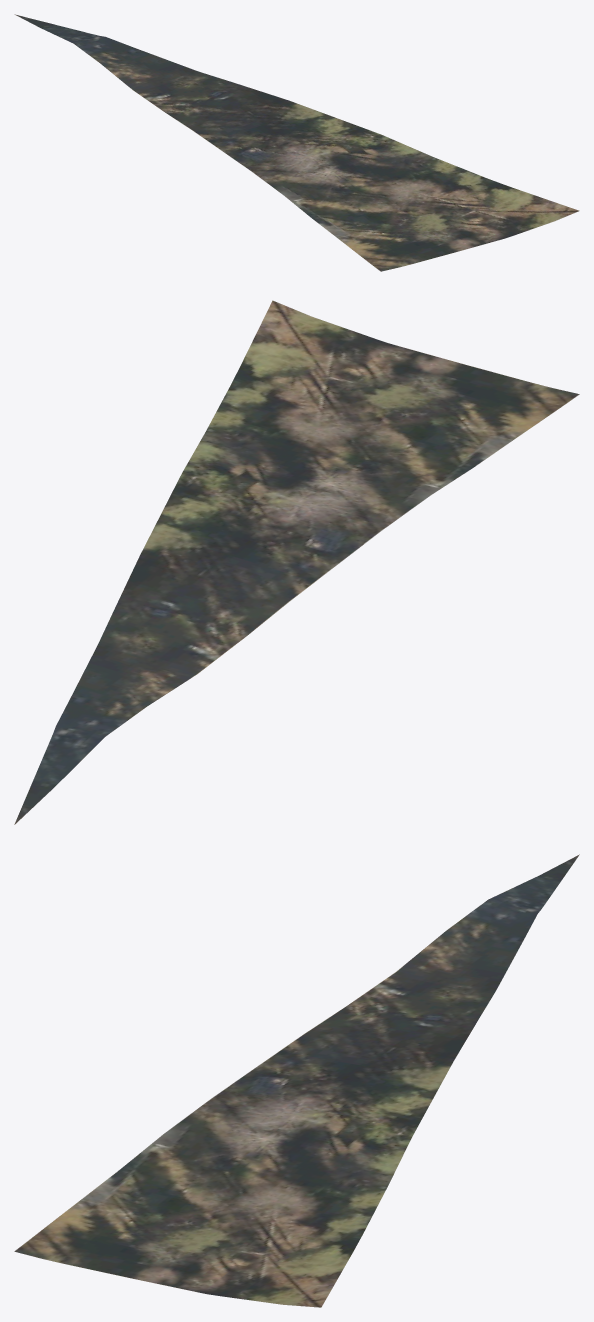
Rendered from CM_Terrain_24491482_6821432.fbx.
The picture shows the model from 3 angles, top to bottom: view 1: azimuth 30°, elevation 25°; view 2: azimuth 150°, elevation 25°; view 3: azimuth 330°, elevation 25°; orthographic projection. The views are drawn at different scales.
Parts seen in each view (by area): view 1: CM_Terrain_24491482_6821432_LOD0; view 2: CM_Terrain_24491482_6821432_LOD0; view 3: CM_Terrain_24491482_6821432_LOD0.
Boxes of the visible parts, bbox=[...] form: CM_Terrain_24491482_6821432_LOD0: bbox=[14, 14, 579, 271]; CM_Terrain_24491482_6821432_LOD0: bbox=[14, 300, 579, 824]; CM_Terrain_24491482_6821432_LOD0: bbox=[14, 854, 579, 1307].
Size of what is drawn, in the model's own units: 28.91 by 3.22 by 92.21.
